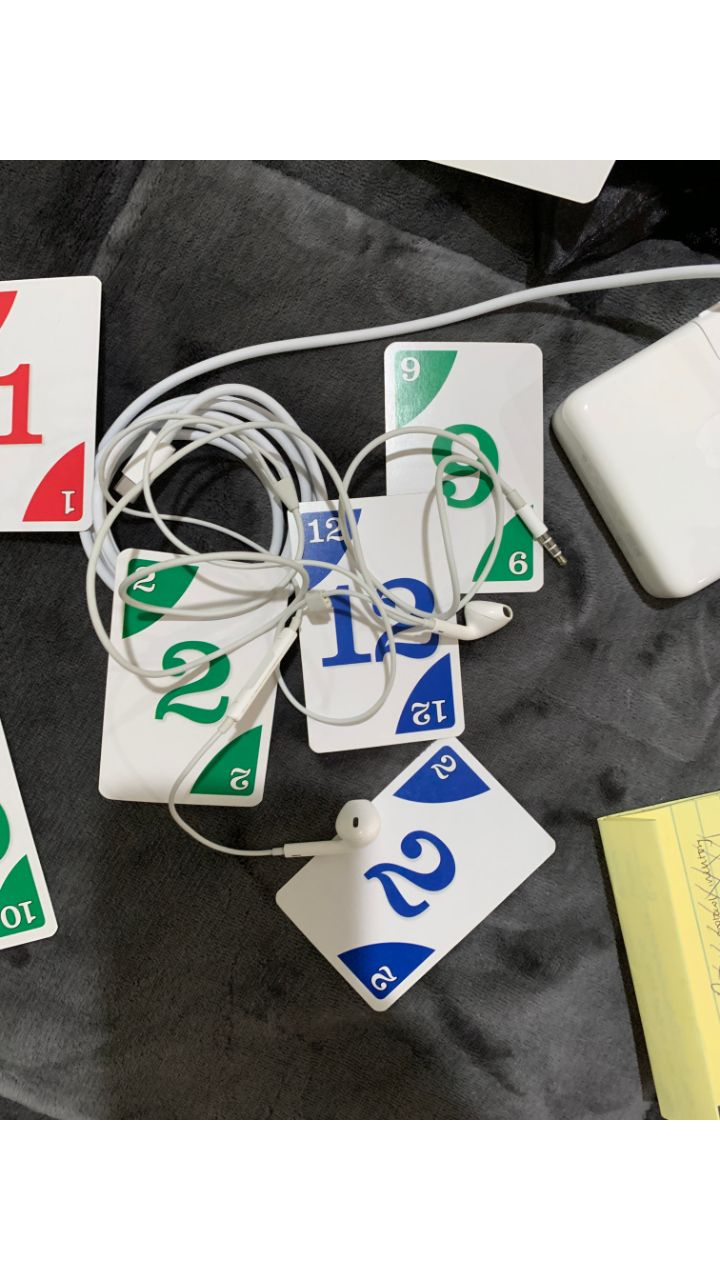nine: (383, 340, 545, 597)
twelve: (288, 499, 467, 745)
two: (278, 737, 552, 1011), (91, 550, 287, 814)
